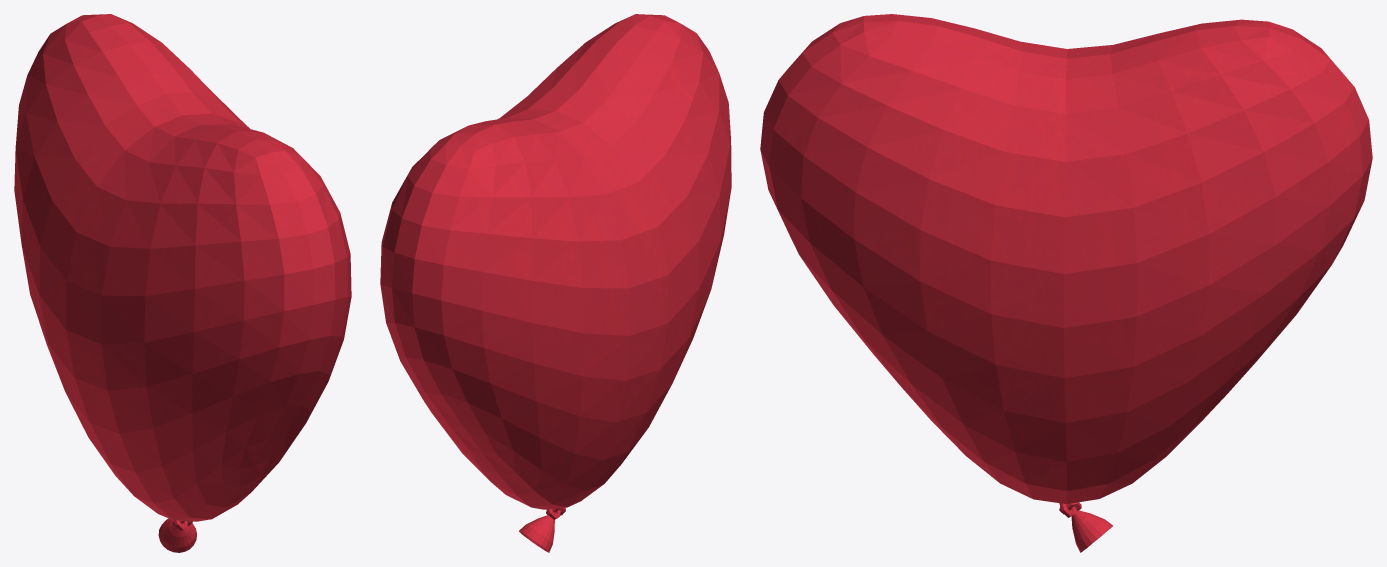
The model's file is ballon_heart.obj.
The picture shows the model from 3 angles, left to right: view 1: azimuth 30°, elevation 25°; view 2: azimuth 150°, elevation 25°; view 3: azimuth 270°, elevation 25°; orthographic projection. The views are drawn at different scales.
Visible parts, largest first — view 1: ballon_heart; view 2: ballon_heart; view 3: ballon_heart.
Part boxes in pixels (x1,y1,x2,y2): ballon_heart: (14, 14, 351, 552); ballon_heart: (380, 14, 731, 552); ballon_heart: (760, 14, 1372, 552).
Size of the model in its own units: 1.2 by 2.37 by 2.5.
Materials: 1 (1 with a texture image).
